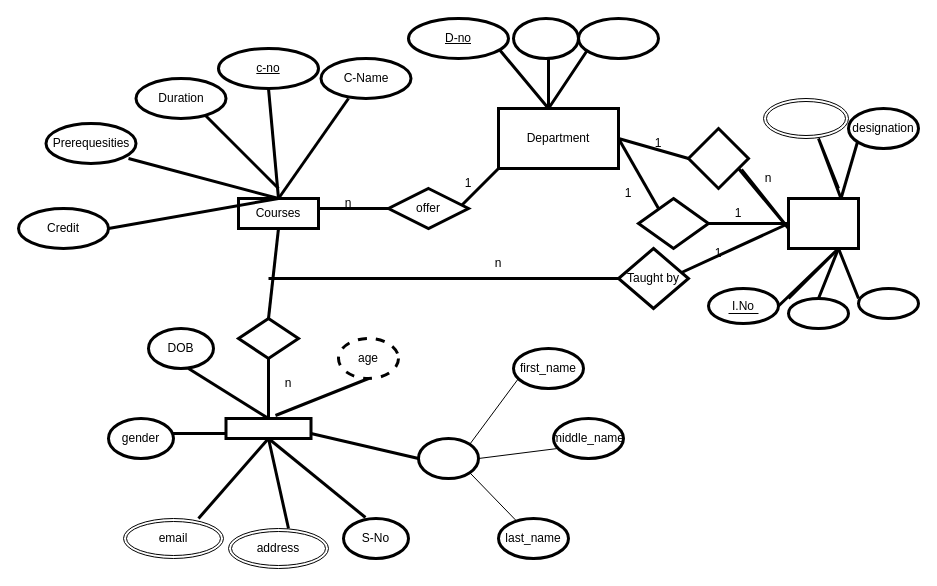
Image size: 937x586. Some labels were removed from this diagram. The centre of each missing label's shape, as x and y in pixels:
"D-Location" goes at (x=618, y=38).
"D-Name" goes at (x=546, y=38).
"enroll" goes at (x=268, y=338).
"Has" goes at (x=718, y=158).
"headby" goes at (x=673, y=223).
"income" goes at (x=818, y=313).
"instructor" goes at (x=823, y=223).
"mob no" goes at (x=805, y=118).
"room no" goes at (x=888, y=303).
"S-Name" goes at (x=448, y=458).
"student" goes at (x=268, y=428).
